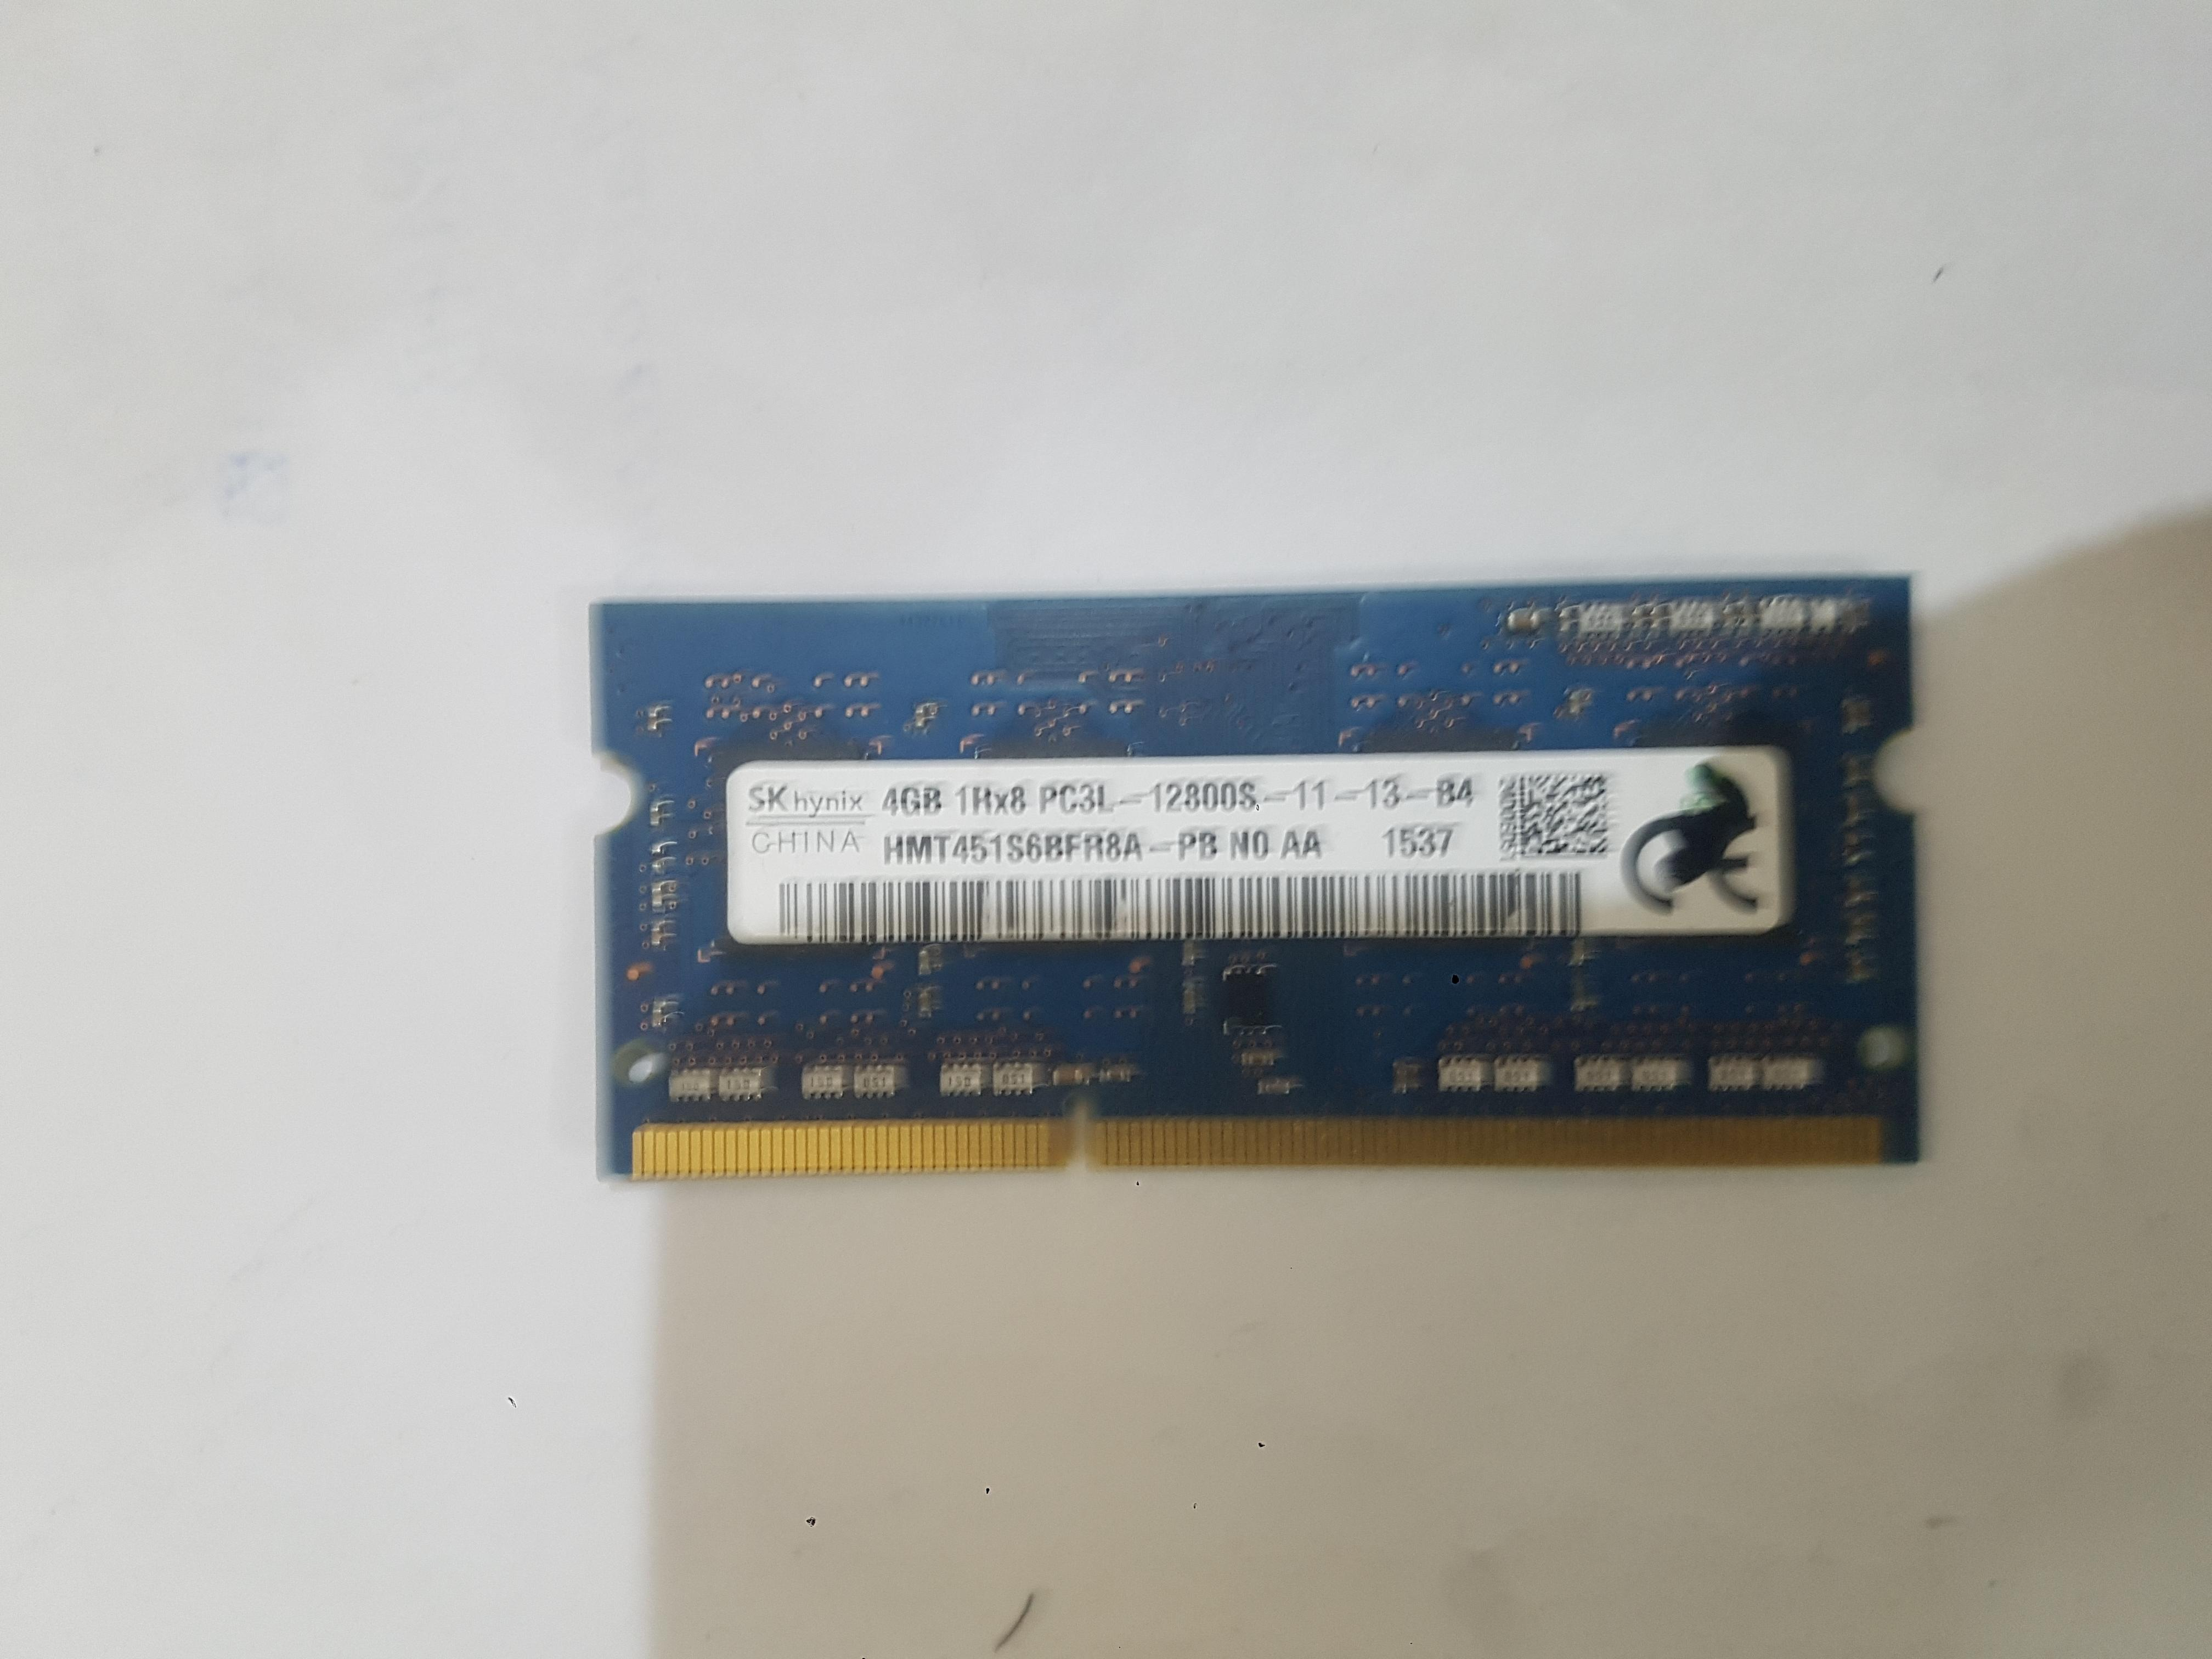electronic: (280, 464, 1646, 1103)
